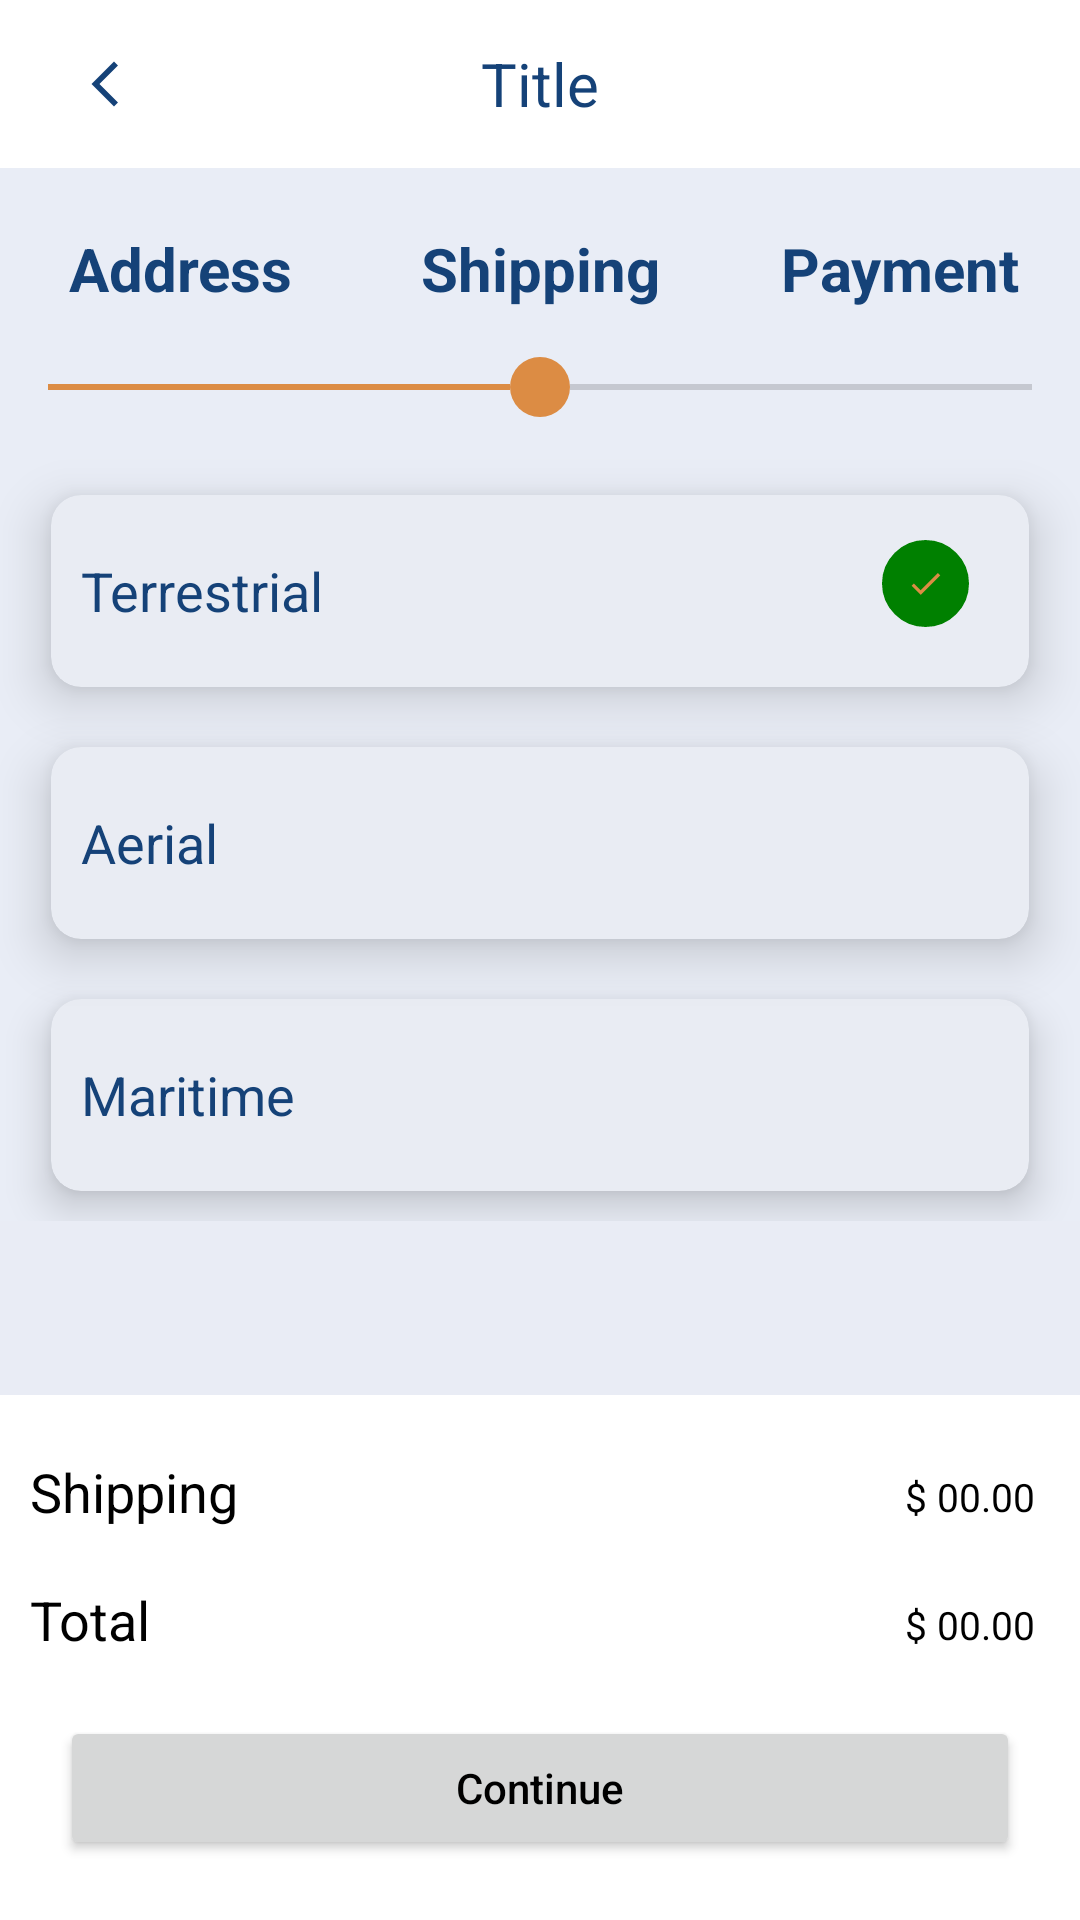

Icons on this 1080×1920 Android screen, each with the point to tap as point (x, y):
Back Button: point (104, 84)
done: point (925, 583)
